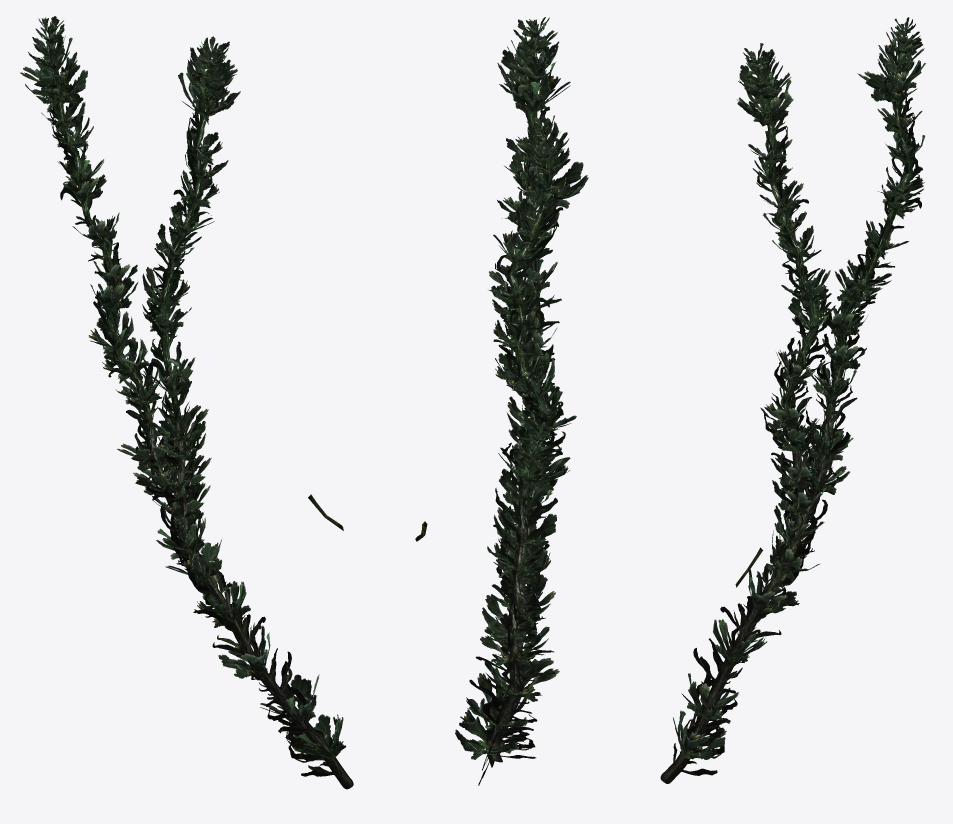
Rendered from PondWeed_FBX_still 1.fbx.
3 renders of one model, left to right at view 1: azimuth 30°, elevation 25°; view 2: azimuth 150°, elevation 25°; view 3: azimuth 270°, elevation 25°, orthographic. The views are drawn at different scales.
Parts seen in each view (by area): view 1: PondWeed_gameasset; view 2: PondWeed_gameasset; view 3: PondWeed_gameasset.
Part boxes in pixels (box(x1,y1,x2,y2)): PondWeed_gameasset: box(20, 16, 353, 789); PondWeed_gameasset: box(415, 17, 588, 785); PondWeed_gameasset: box(660, 17, 926, 783).
Bounding box in the file's own units: 11.01 × 32.66 × 12.7.
3 materials, 3 textured.
